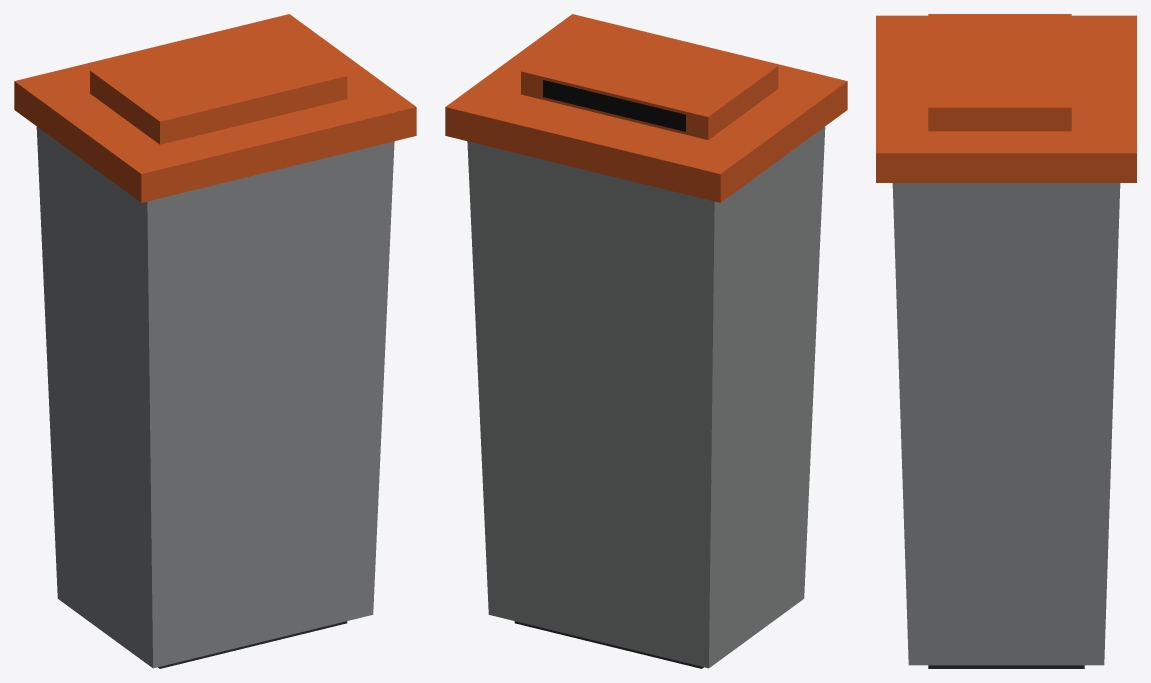
File: stop_bin_city.glb
3 views of the same model, side by side, from view 1: azimuth 30°, elevation 25°; view 2: azimuth 150°, elevation 25°; view 3: azimuth 270°, elevation 25° (orthographic). The views are drawn at different scales.
Parts seen in each view (by area): view 1: Bin; view 2: Bin; view 3: Bin.
Boxes of the visible parts, left/top/right/bottom form: Bin: left=14, top=14, right=416, bottom=668; Bin: left=445, top=14, right=847, bottom=668; Bin: left=876, top=14, right=1136, bottom=668.
Size of the model in its own units: 0.5 by 0.95 by 0.4.
